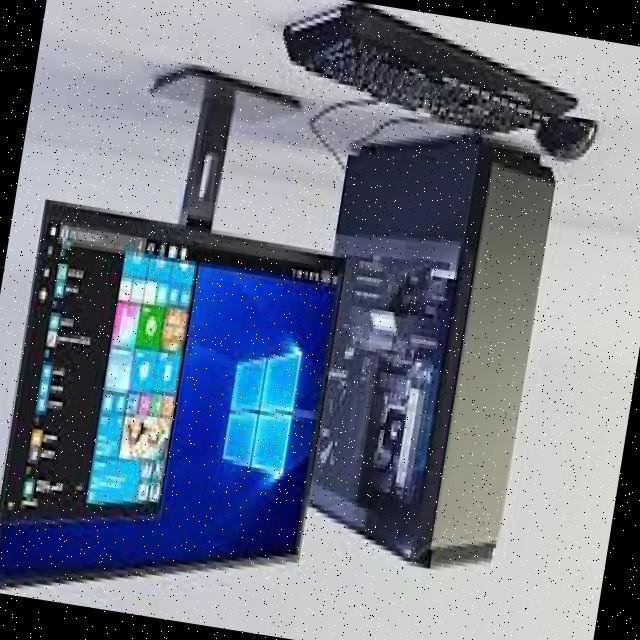Computer: (280, 119, 566, 586)
Monitor: (0, 167, 358, 639)
